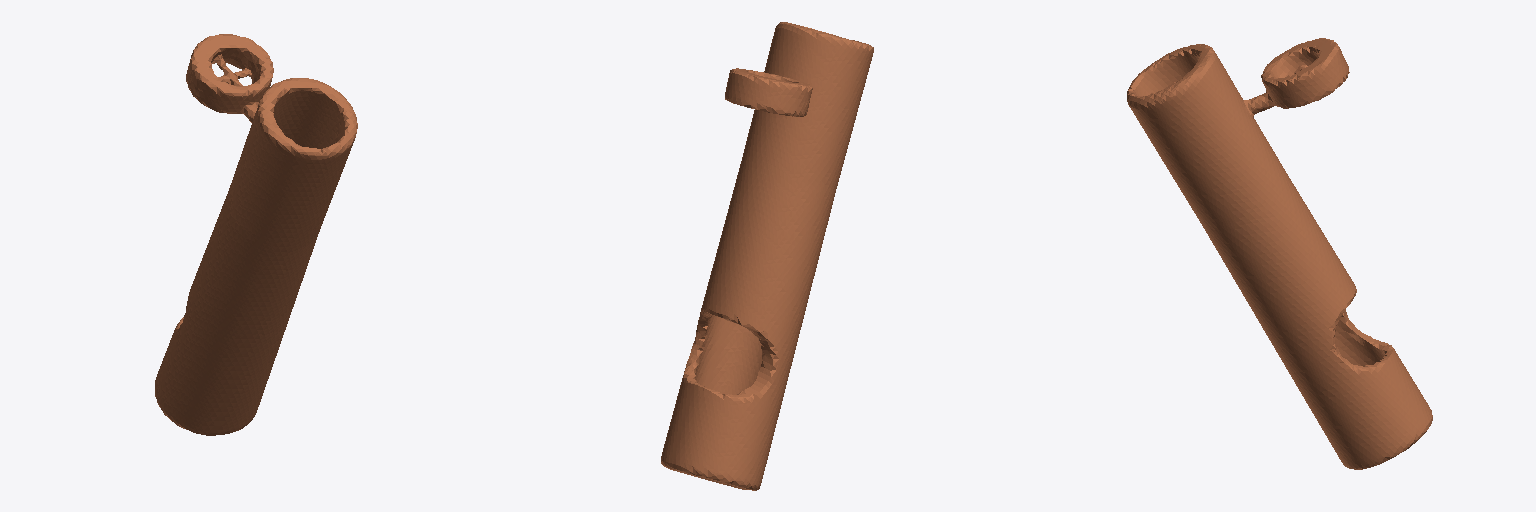
3 renders of one model, left to right at view 1: azimuth 30°, elevation 25°; view 2: azimuth 150°, elevation 25°; view 3: azimuth 270°, elevation 25°, orthographic.
Parts seen in each view (by area): view 1: Layer_2; view 2: Layer_2; view 3: Layer_2.
Boxes of the visible parts, <box> form: Layer_2: <box>155,34,357,435</box>; Layer_2: <box>661,22,873,490</box>; Layer_2: <box>1127,38,1432,469</box>.
Bounding box in the file's own units: 7.52 × 29.32 × 20.
Materials: 1 (1 with a texture image).